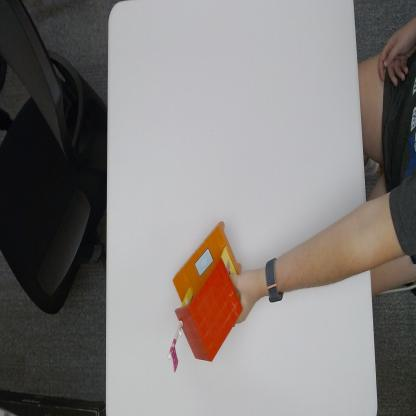Arm: (282, 201, 372, 292)
Hand: (229, 269, 264, 327)
House: (167, 221, 243, 370)
